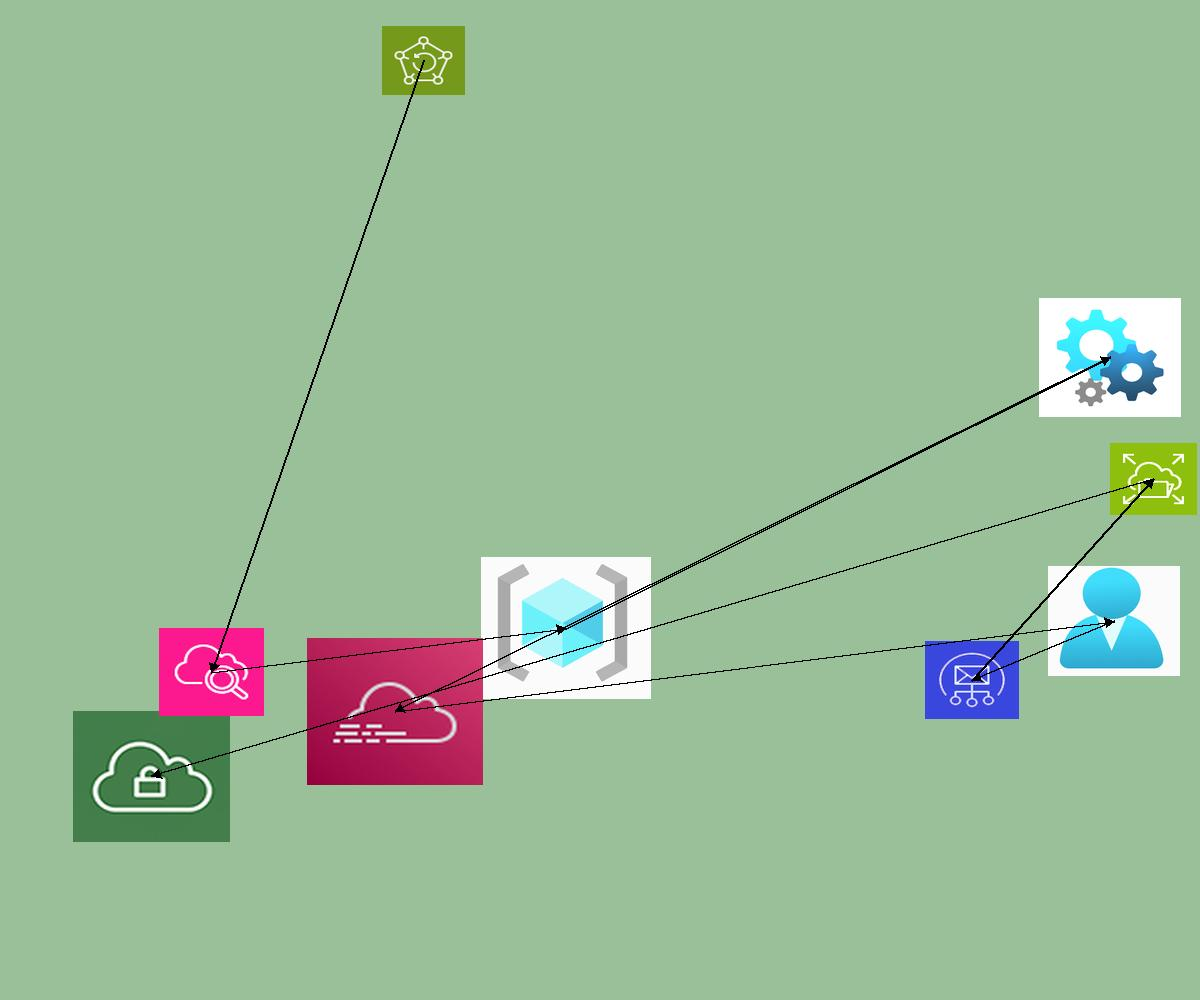AWS-Backup: (382, 26, 465, 95)
AWS-CloudTrail: (307, 638, 483, 785)
AWS-CloudWatch: (159, 628, 264, 716)
AWS-EFS: (1110, 443, 1197, 515)
AWS-Private_vpc: (73, 711, 230, 842)
AWS-Simple-Email-Service: (925, 641, 1019, 719)
Azure_api: (1039, 298, 1181, 417)
Azure_resource_group: (481, 557, 651, 699)
Azure_users: (1048, 566, 1180, 676)
